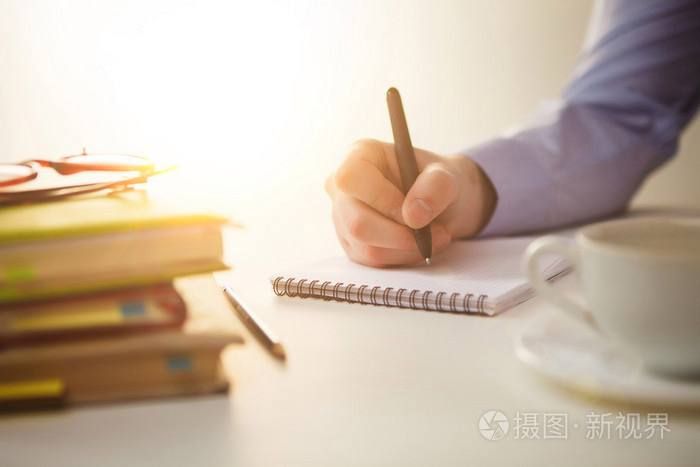no-phone: (317, 84, 483, 272)
